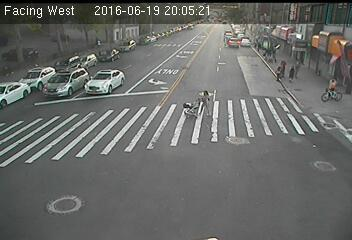neg: (323, 73, 345, 103), (92, 38, 106, 56), (26, 46, 36, 60), (251, 36, 260, 49)
pos: (196, 88, 216, 115)
